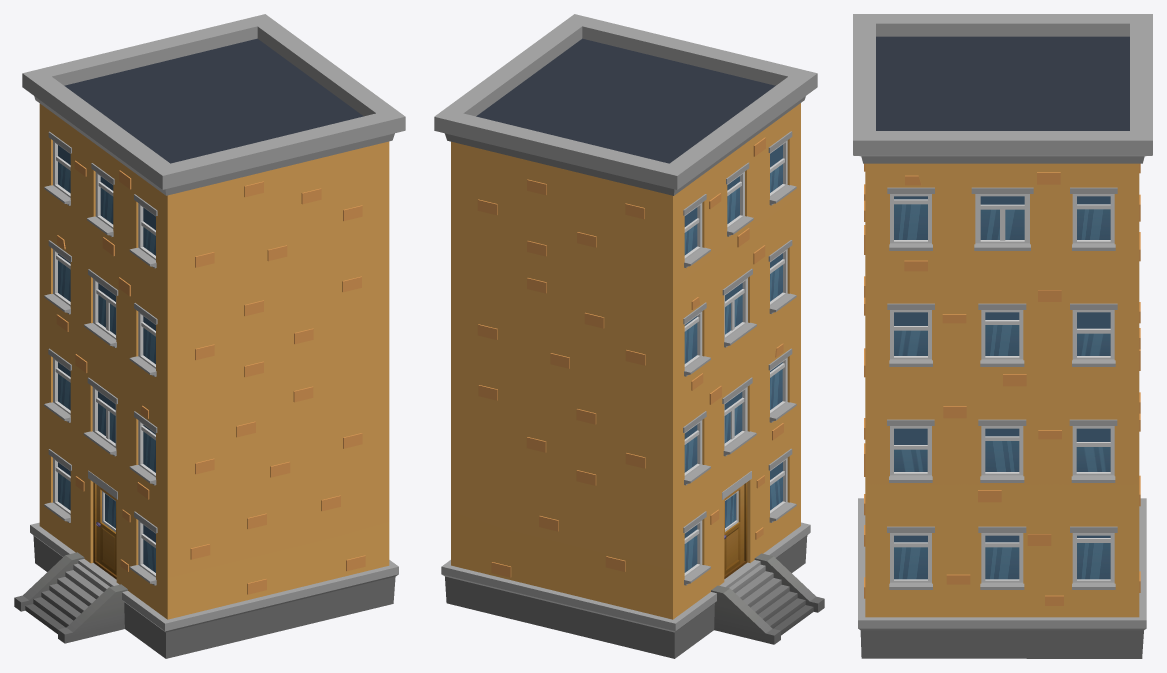
The model's file is Building_2_2_E.fbx.
3 renders of one model, left to right at view 1: azimuth 30°, elevation 25°; view 2: azimuth 150°, elevation 25°; view 3: azimuth 270°, elevation 25°, orthographic. The views are drawn at different scales.
Visible parts, largest first — view 1: Building_2_2_E; view 2: Building_2_2_E; view 3: Building_2_2_E.
Part boxes in pixels (x1,y1,x2,y2): Building_2_2_E: [14, 14, 405, 658]; Building_2_2_E: [434, 14, 824, 658]; Building_2_2_E: [853, 14, 1152, 658].
Bounding box in the file's own units: 754 × 1191 × 620.
